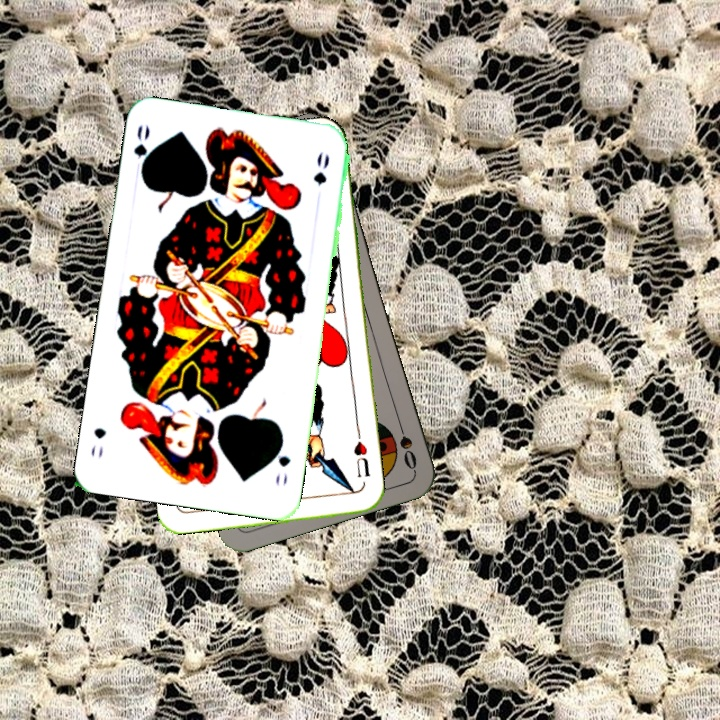GO: (129, 120, 156, 181), (271, 435, 293, 489)
HU: (350, 437, 373, 480)
SO: (393, 414, 420, 473)
